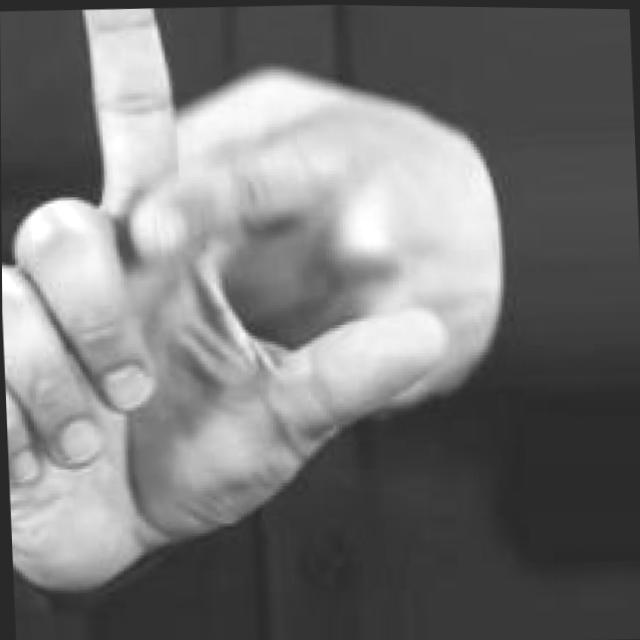J: (0, 0, 515, 604)
